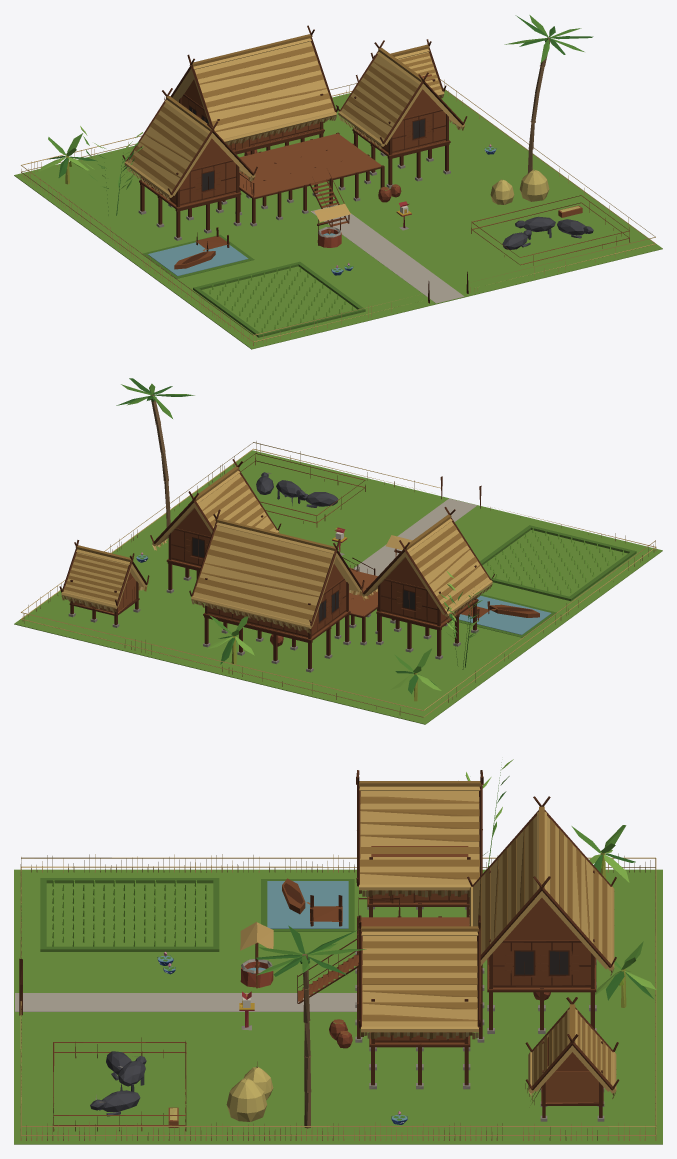
The model's file is home_5.glb.
The picture shows the model from 3 angles, top to bottom: view 1: azimuth 30°, elevation 25°; view 2: azimuth 150°, elevation 25°; view 3: azimuth 270°, elevation 25°; orthographic projection. The views are drawn at different scales.
Visible parts, largest first — view 1: body; view 2: body, windows; view 3: body, windows.
Part boxes in pixels (x1,y1,x2,y2): body: (14, 15, 662, 349); body: (14, 378, 662, 724); windows: (192, 538, 414, 621); body: (14, 759, 662, 1144); windows: (515, 951, 568, 974).
Size of the model in its own units: 33.99 by 11.2 by 31.9.
